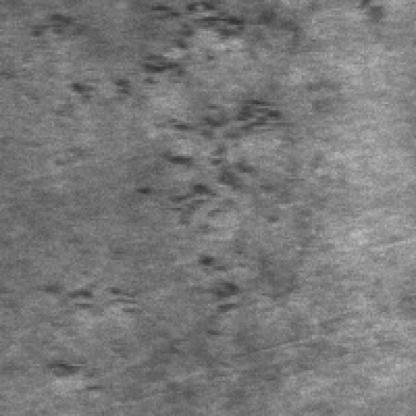rolled-in_scale: (144, 4, 291, 320), (4, 13, 150, 110), (42, 272, 154, 328)
